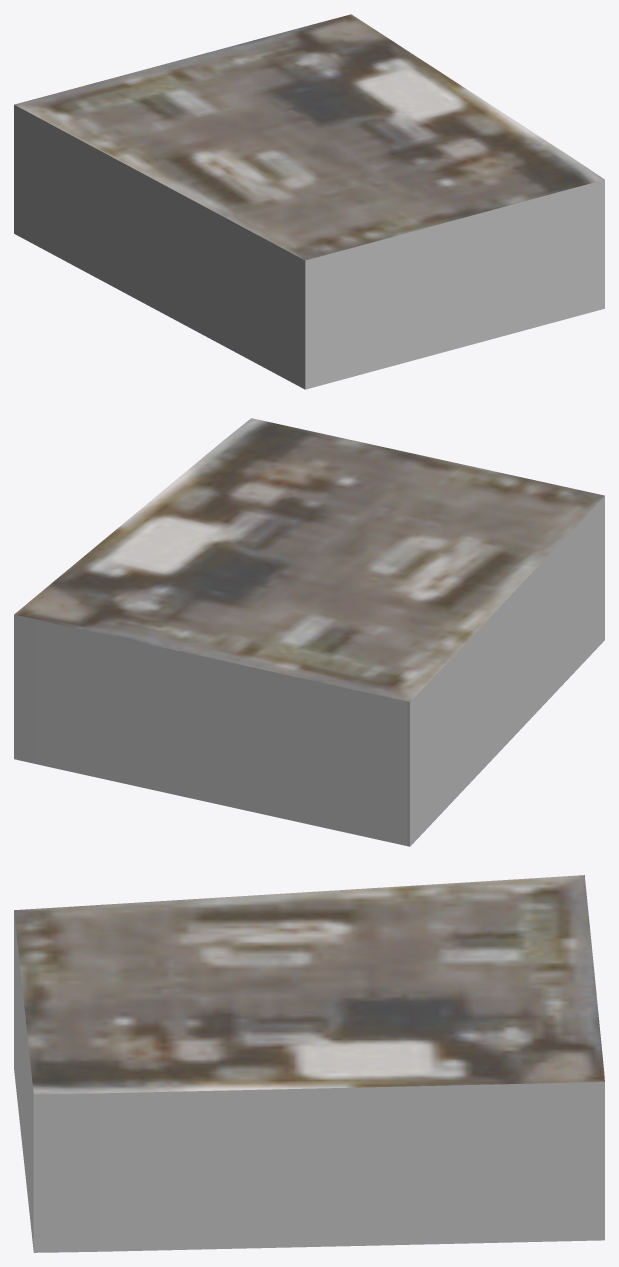
File: DEBW_0010007Tx9j.gltf
The picture shows the model from 3 angles, top to bottom: view 1: azimuth 30°, elevation 25°; view 2: azimuth 150°, elevation 25°; view 3: azimuth 270°, elevation 25°; orthographic projection. The views are drawn at different scales.
Parts seen in each view (by area): view 1: Z_UP; view 2: Z_UP; view 3: Z_UP.
Boxes of the visible parts, left/top/right/bottom form: Z_UP: left=14, top=14, right=604, bottom=389; Z_UP: left=14, top=418, right=604, bottom=846; Z_UP: left=14, top=875, right=604, bottom=1252.
Size of the model in its own units: 16.01 by 5.39 by 18.23.
Materials: 2 (1 with a texture image).
